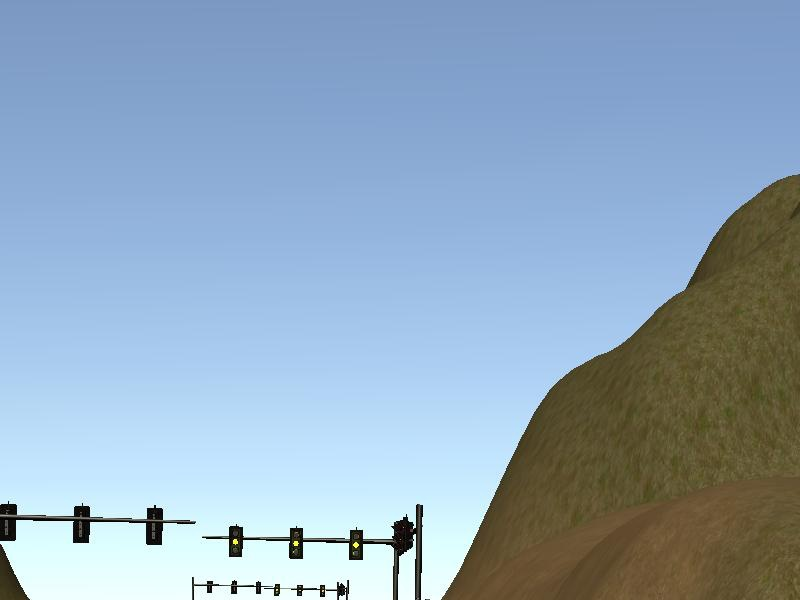yellow_light: (229, 525, 243, 557), (290, 530, 303, 557), (351, 530, 362, 558)
